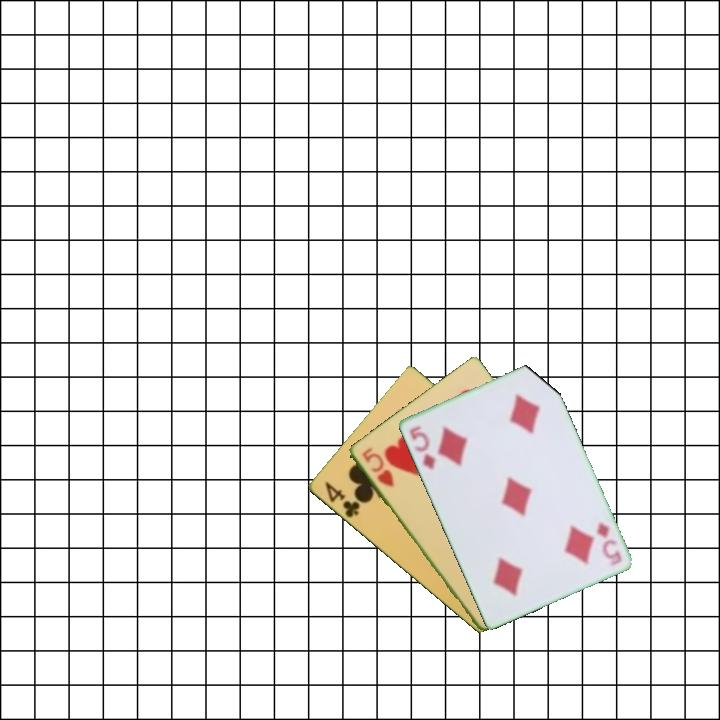4c: (321, 478, 362, 521)
5d: (592, 519, 625, 568), (406, 422, 438, 472)
5h: (358, 443, 396, 490)
